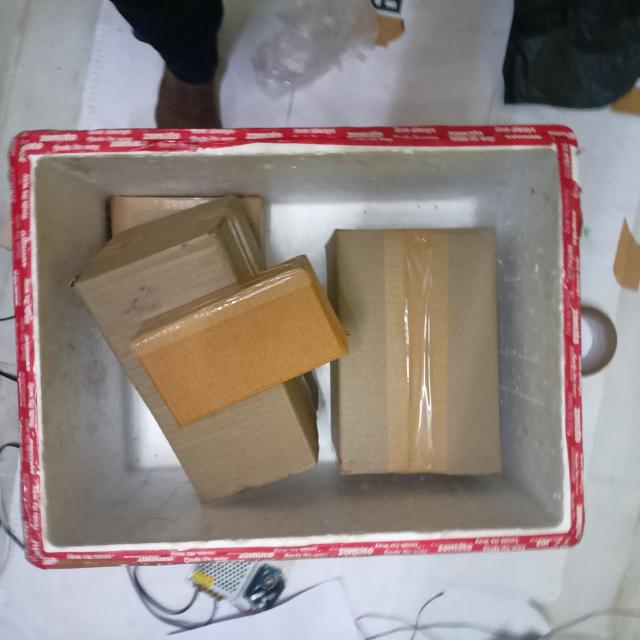box: (341, 232, 496, 472), (137, 264, 351, 430)
